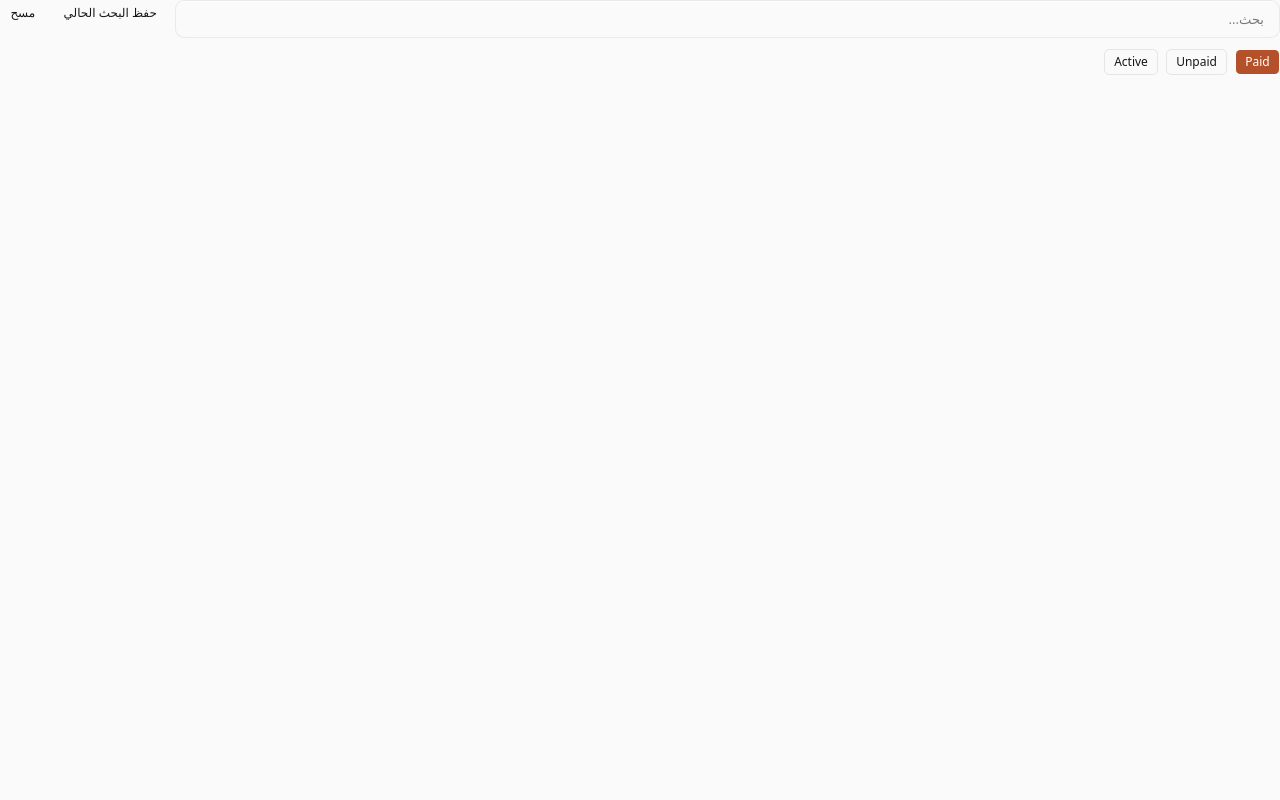
Test: AdvancedSearchBar › saves the current filter set as a named preset and shows it in the list
This screenshot has width=1280, height=800.
Click the button "حفظ البحث الحالي" at (110, 13), box [53,0,167,26]
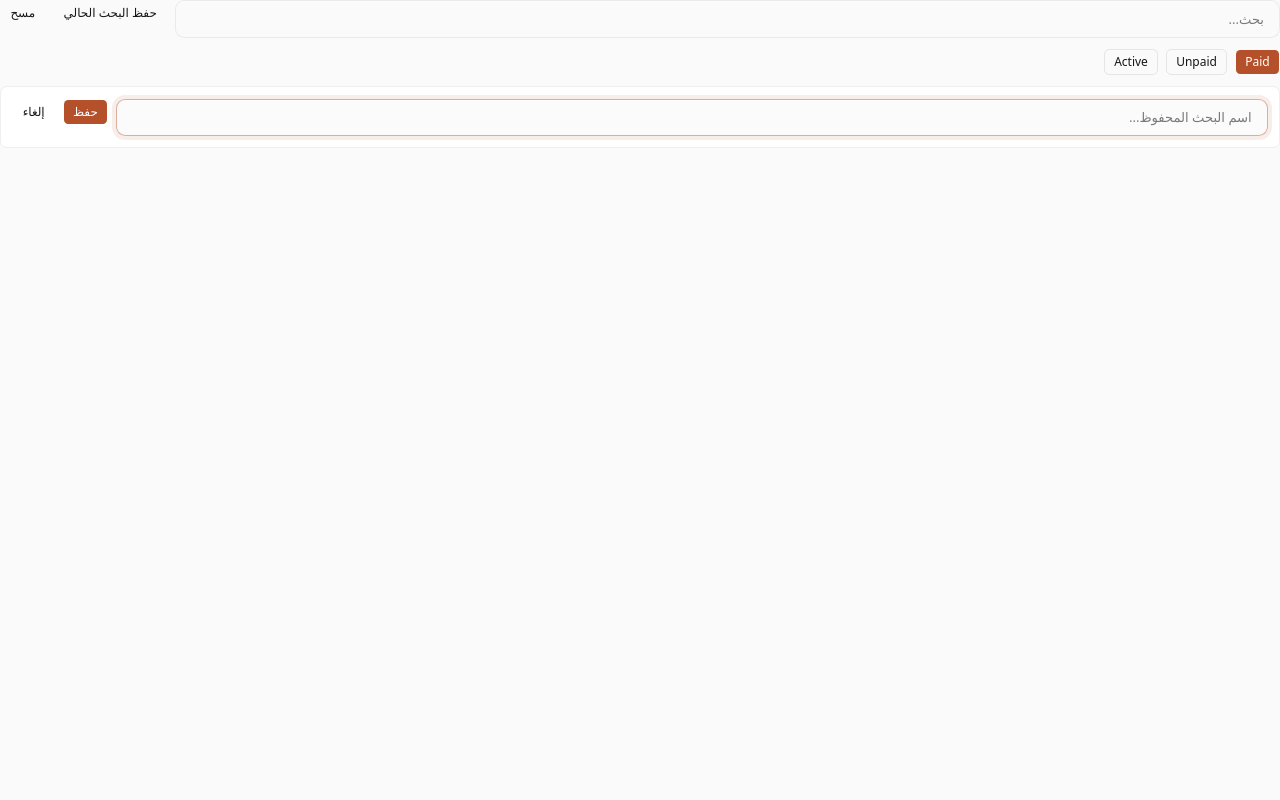
Type "My Paid List" into the field with placeholder "اسم البحث المحفوظ..." at (692, 117), box [116,98,1268,136]
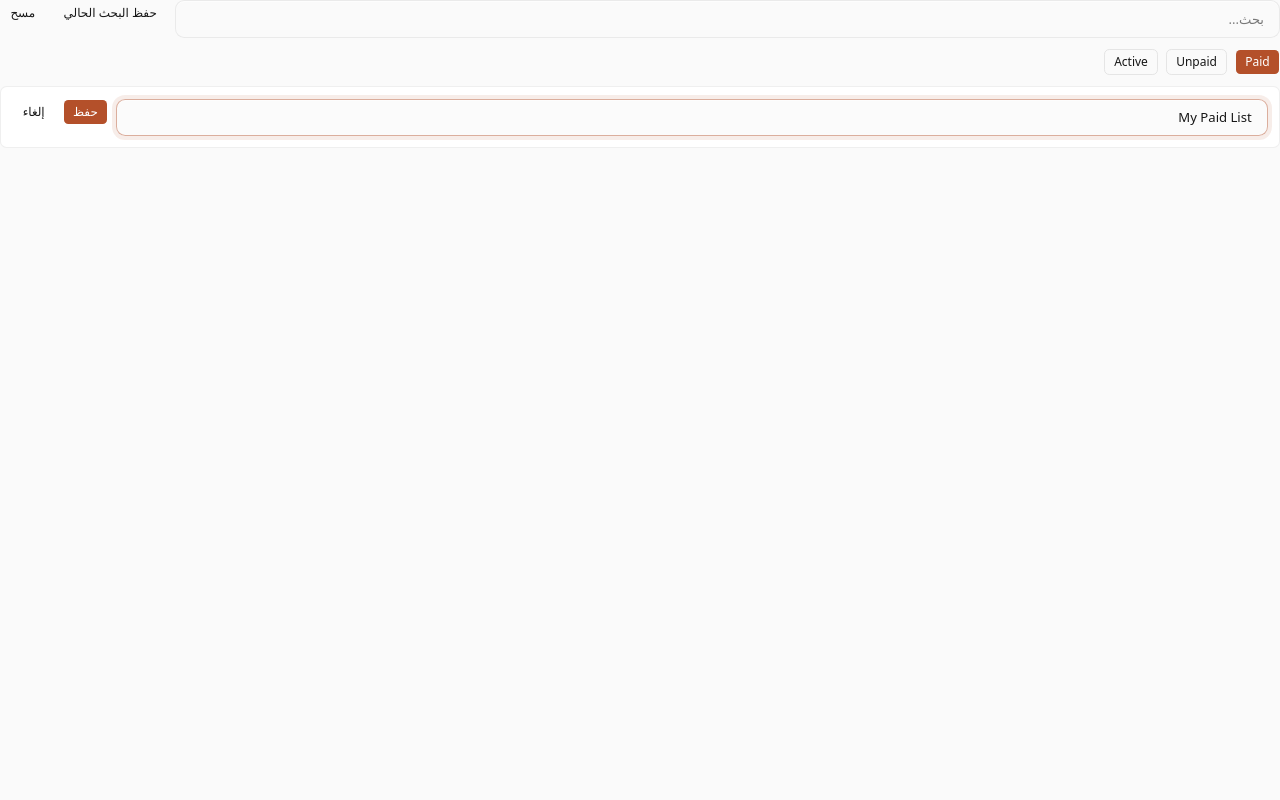
Click the button "حفظ" at (85, 112), box [63,98,108,125]
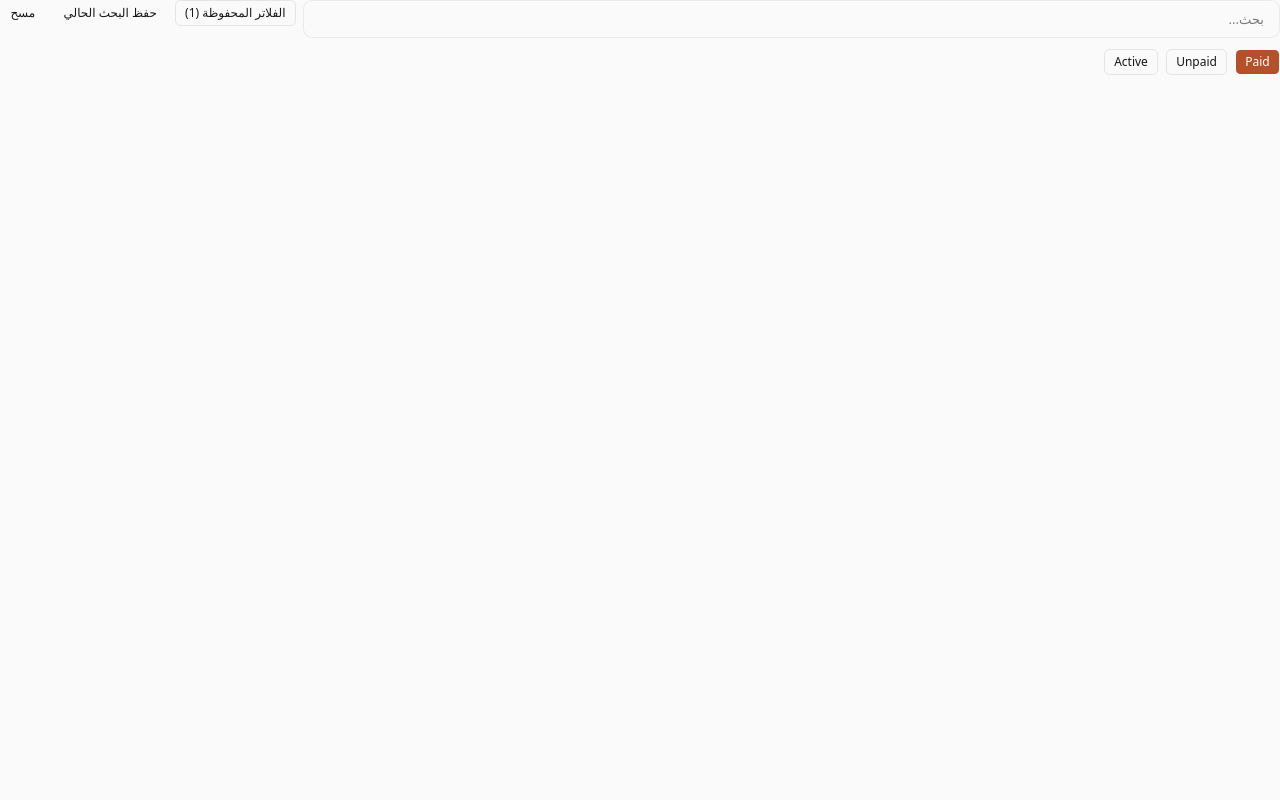
Click the button "الفلاتر المحفوظة (1)" at (235, 13), box [175,0,296,26]
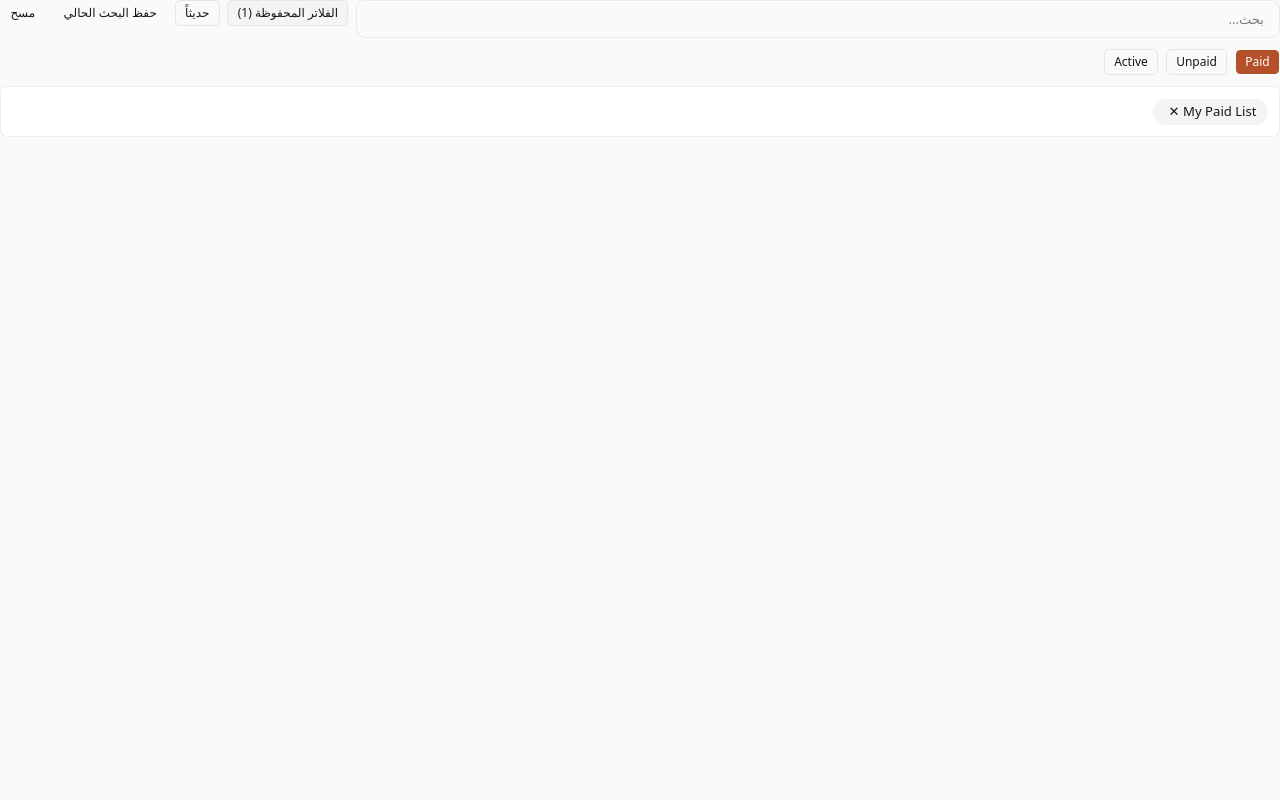
Check: the button "My Paid List" is shown, box [1183,102,1256,121]
